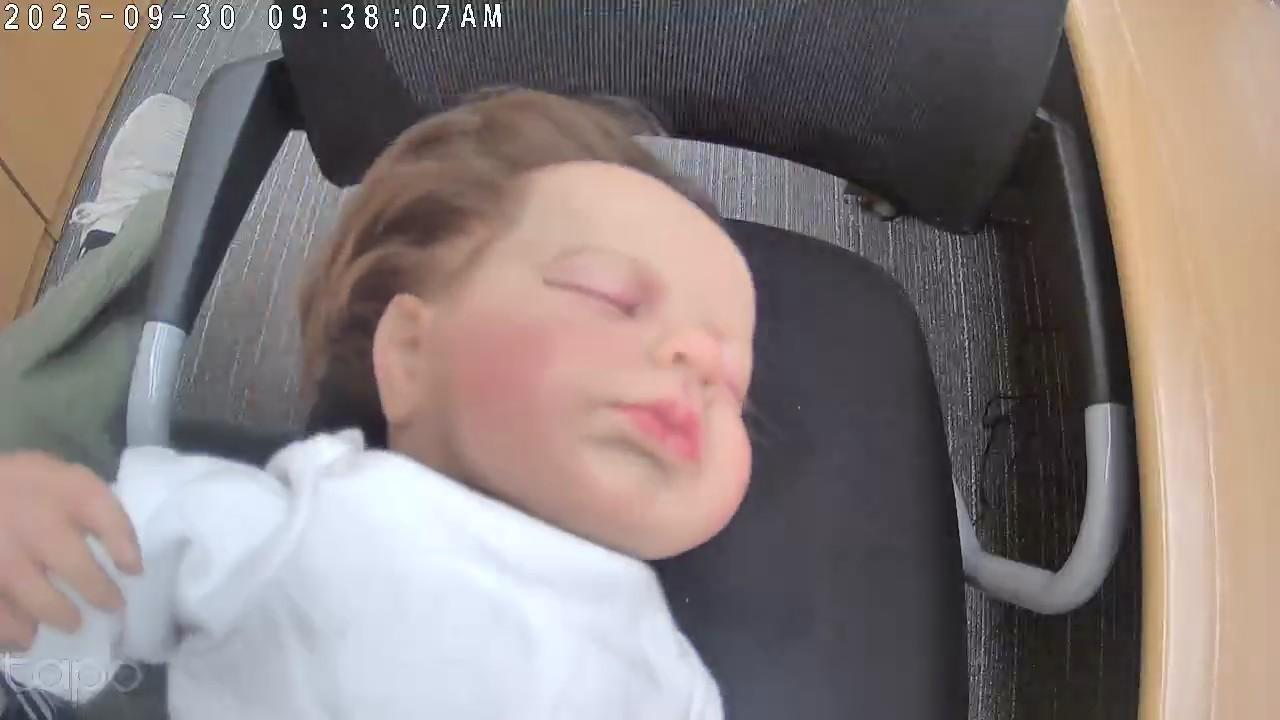hand: (0, 448, 144, 655)
